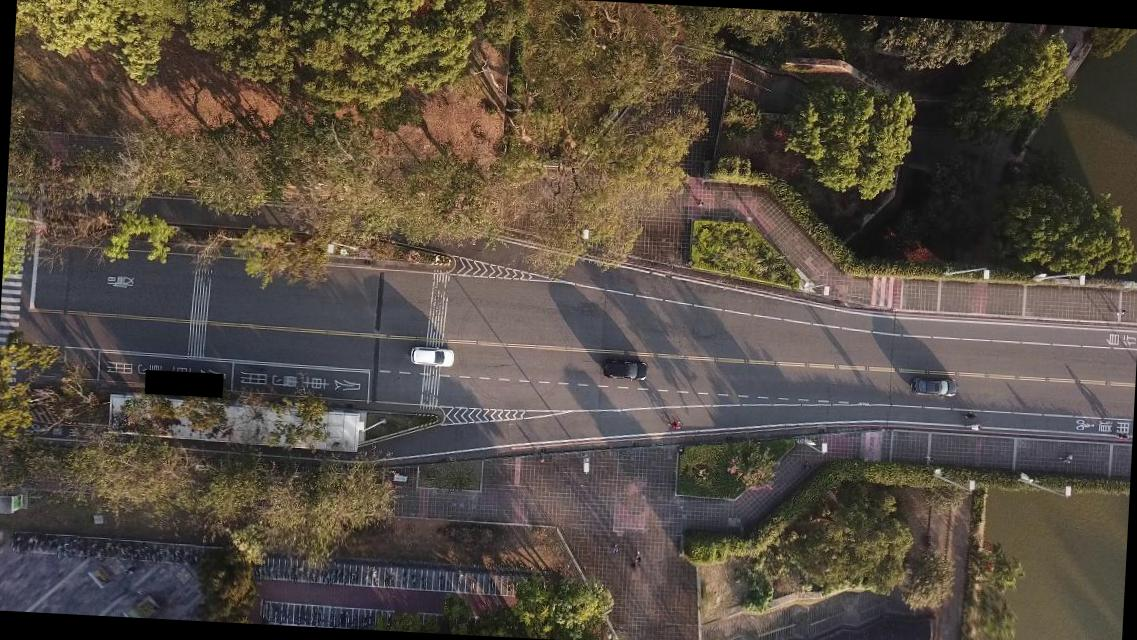vehicle: (910, 376, 958, 399), (408, 346, 454, 369), (601, 359, 647, 382)
